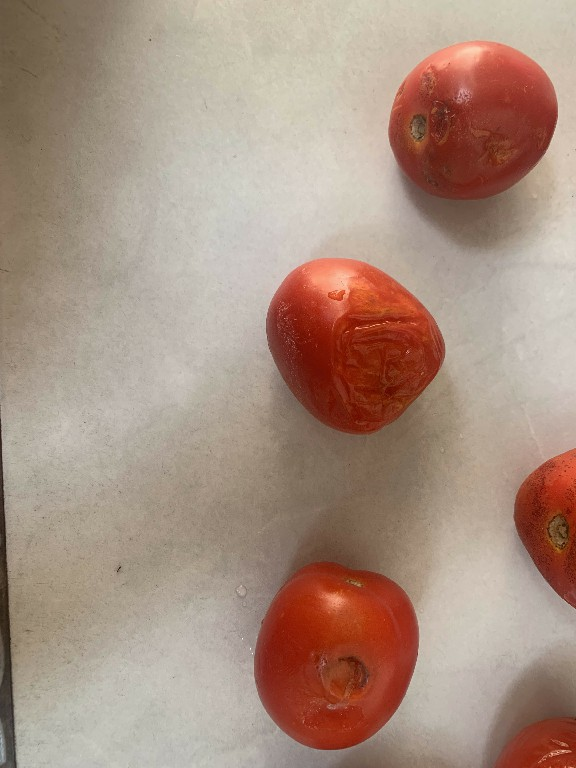NG: (253, 239, 458, 444), (244, 546, 426, 760), (377, 24, 568, 208)
